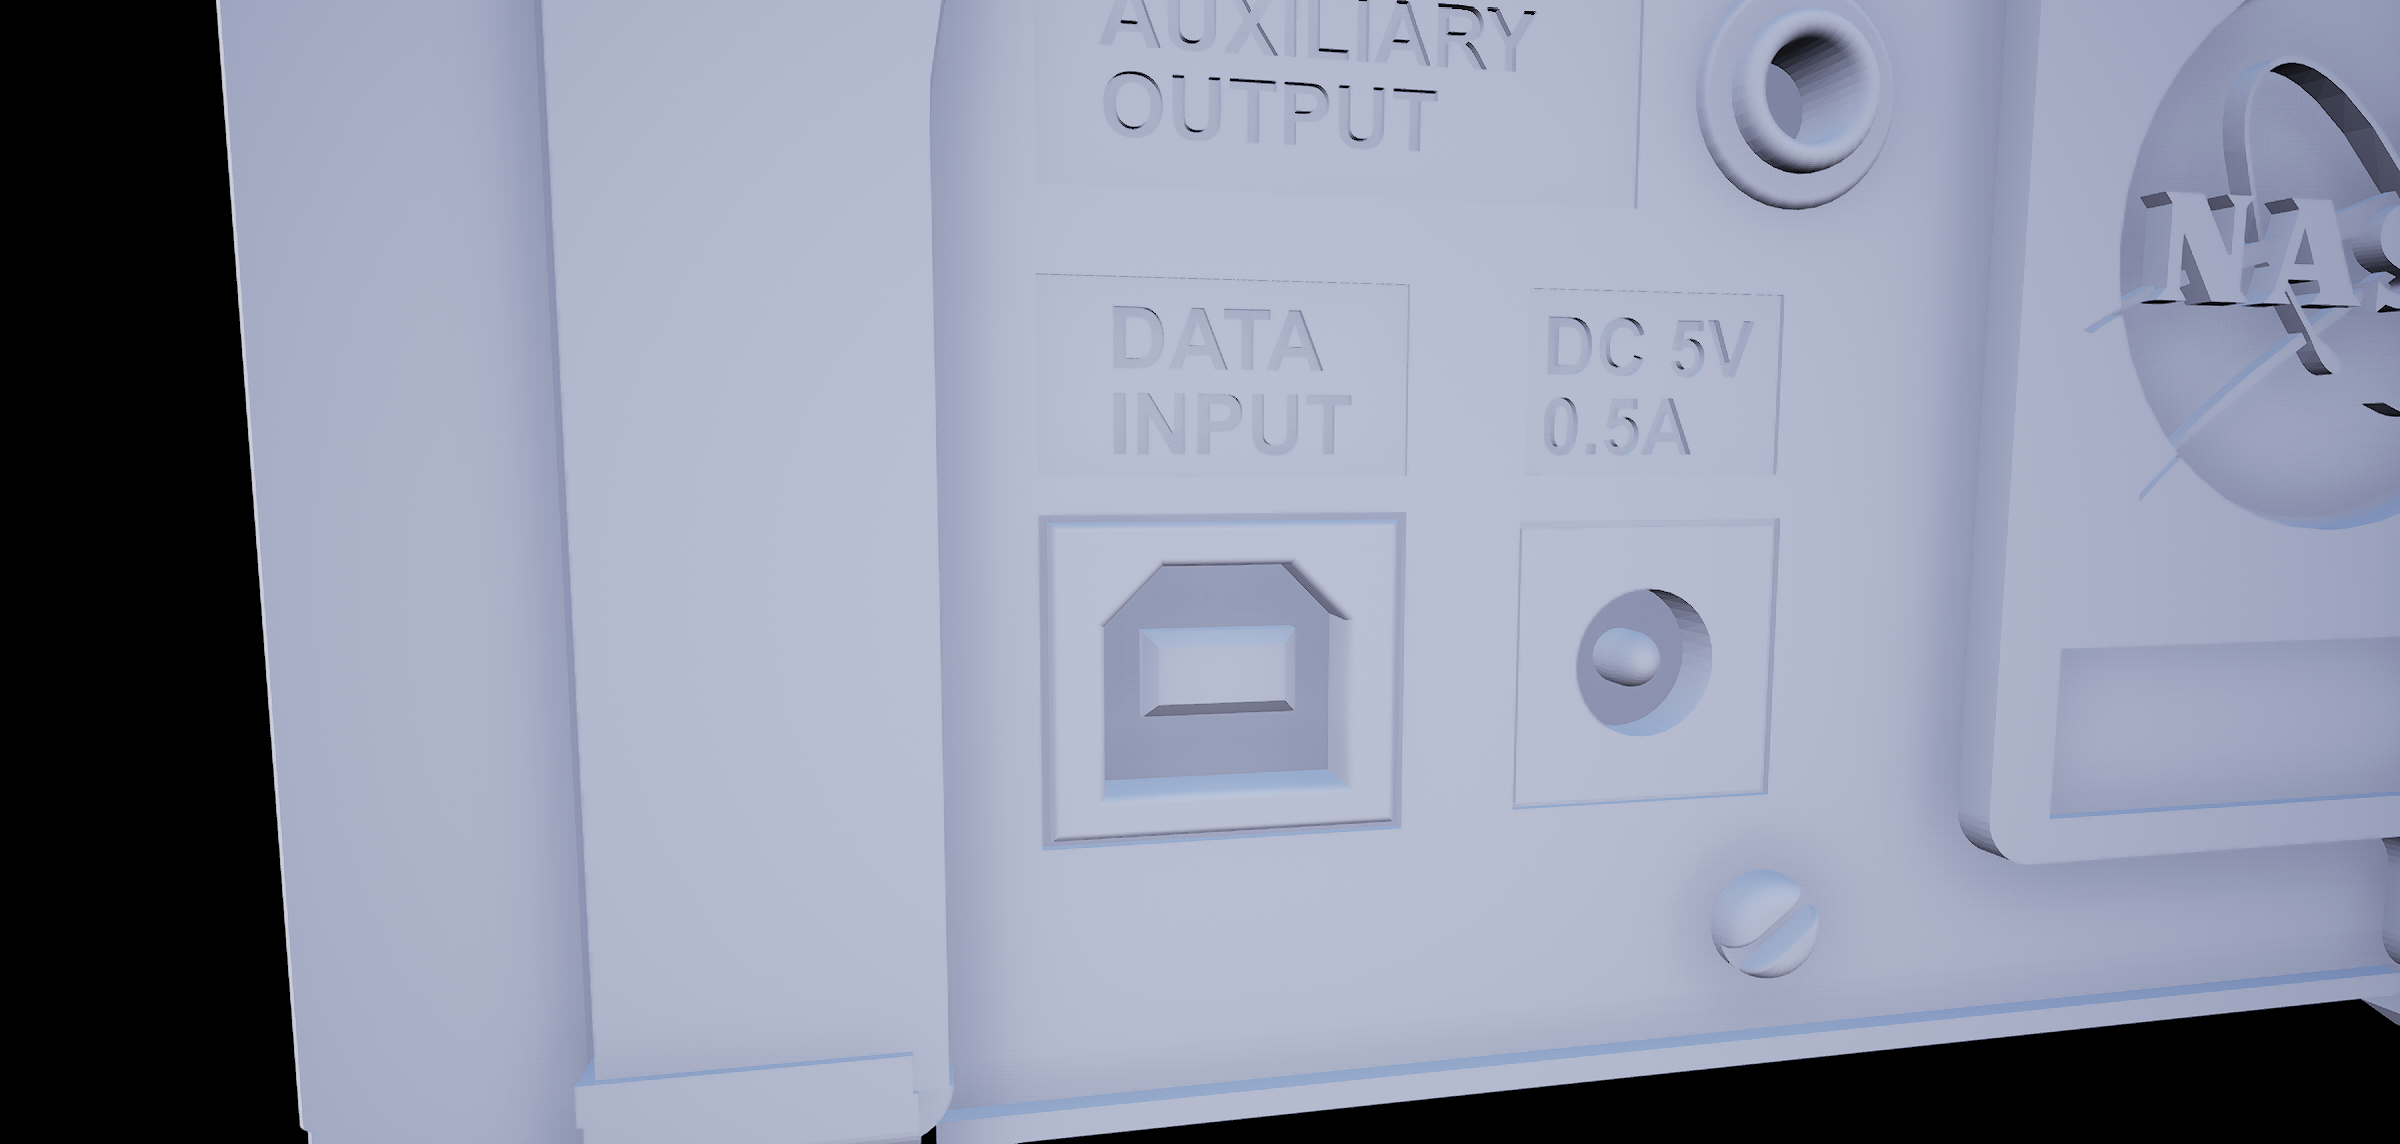aux: (1684, 11, 1907, 210)
dc: (1558, 573, 1725, 743)
usb: (1087, 548, 1371, 802)
